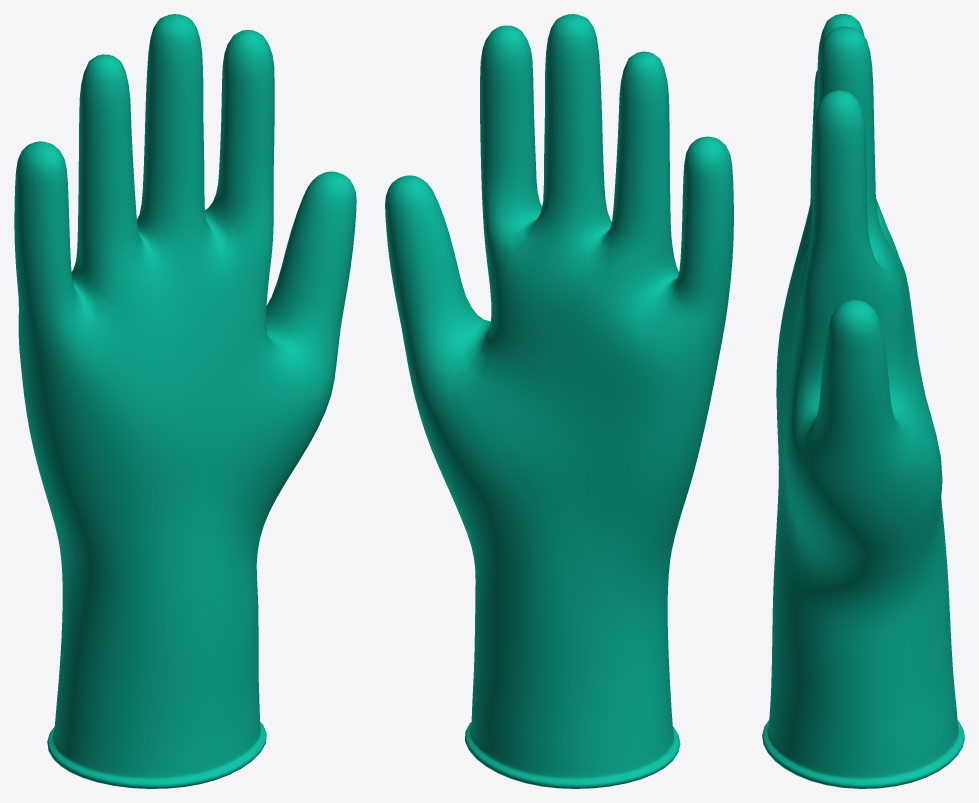
The model's file is diamond-silverlined-latex--green-silverlined.glb.
3 renders of one model, left to right at view 1: azimuth 30°, elevation 25°; view 2: azimuth 150°, elevation 25°; view 3: azimuth 270°, elevation 25°, orthographic. The views are drawn at different scales.
Parts seen in each view (by area): view 1: garden_gloves_01.003; view 2: garden_gloves_01.003; view 3: garden_gloves_01.003.
Boxes of the visible parts, x1=… form: garden_gloves_01.003: x1=14, y1=14, x2=356, y2=788; garden_gloves_01.003: x1=385, y1=14, x2=733, y2=788; garden_gloves_01.003: x1=762, y1=14, x2=964, y2=788.
Size of the model in its own units: 0.1456 by 0.3001 by 0.0766.
